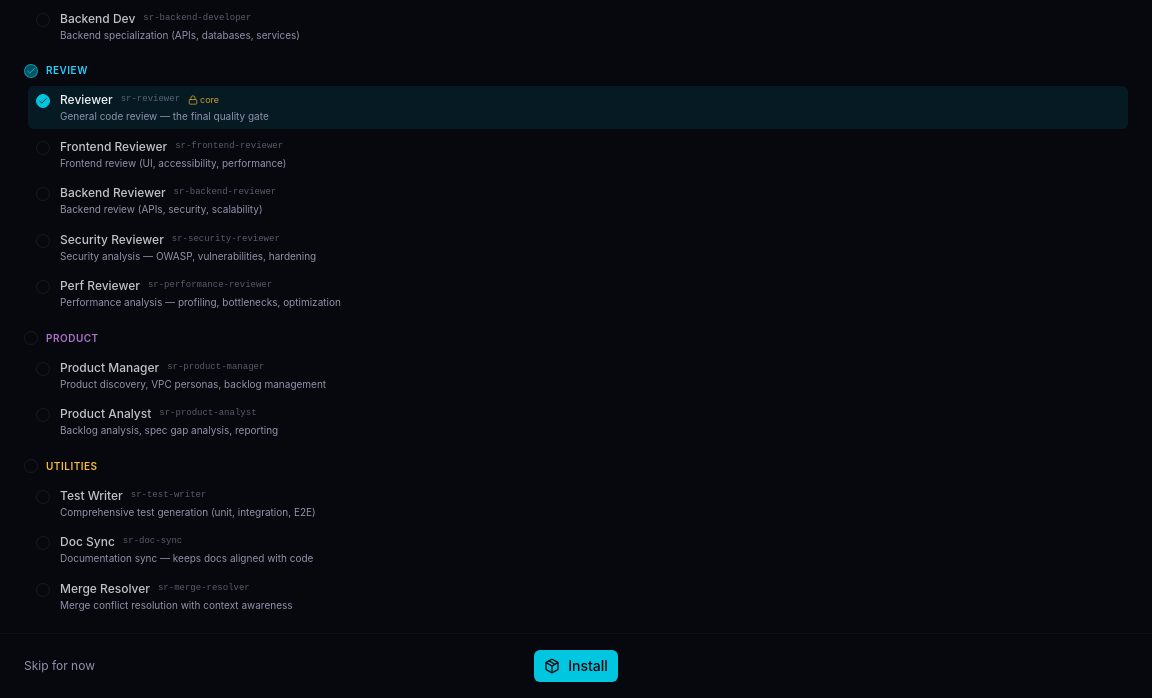
Test: SetupWizard › Transition to installing step › shows "Waiting for output..." when no log lines yet
The image size is (1152, 698).
(page scrolled)
Click the button "Install" at (576, 666), box [534,650,618,682]
(page scrolled)
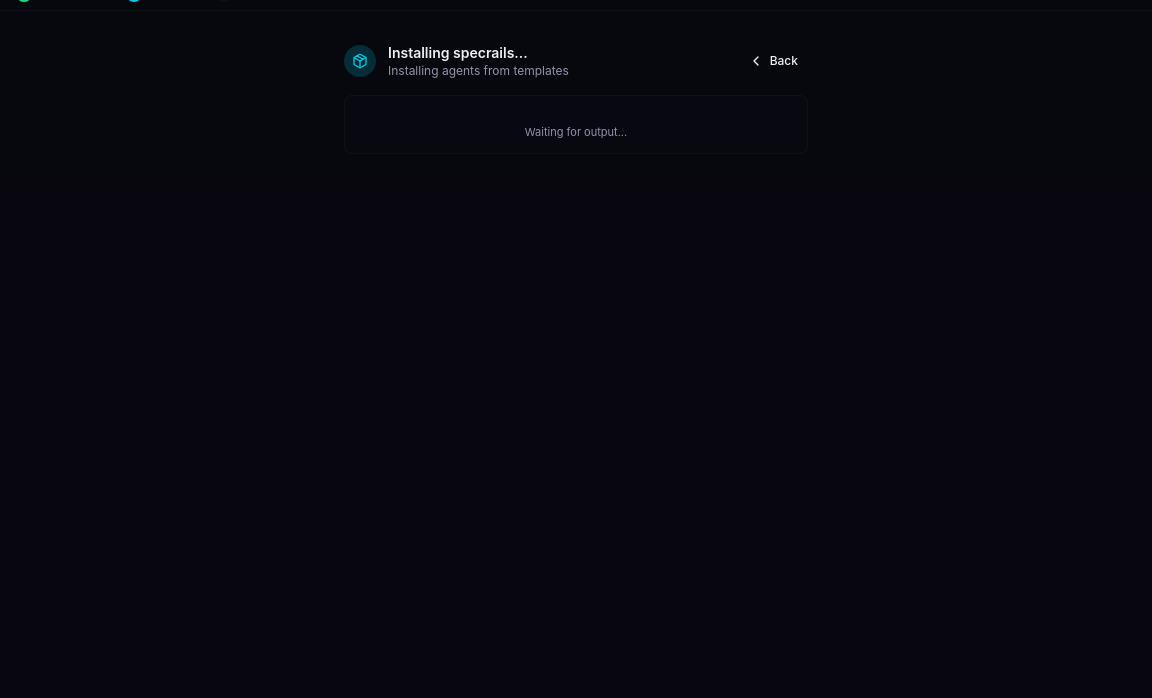
expect the text "Waiting for output..." is shown: met, box [525,125,627,139]
